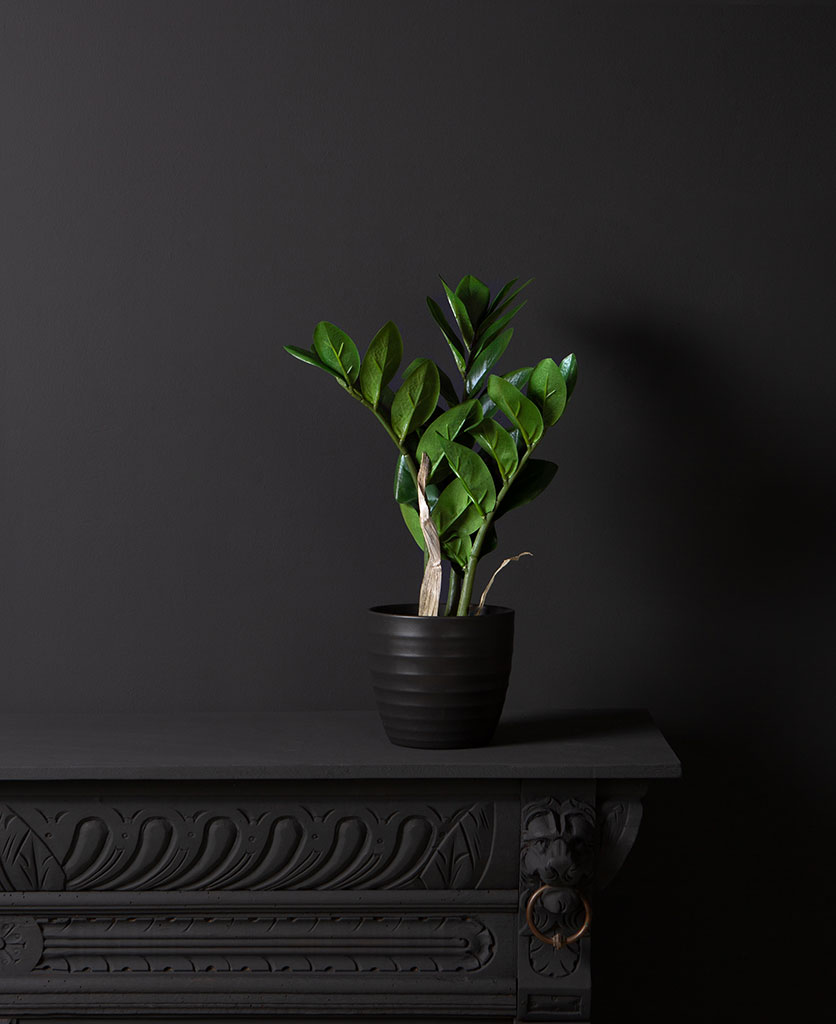tanaman: (289, 290, 602, 734)
